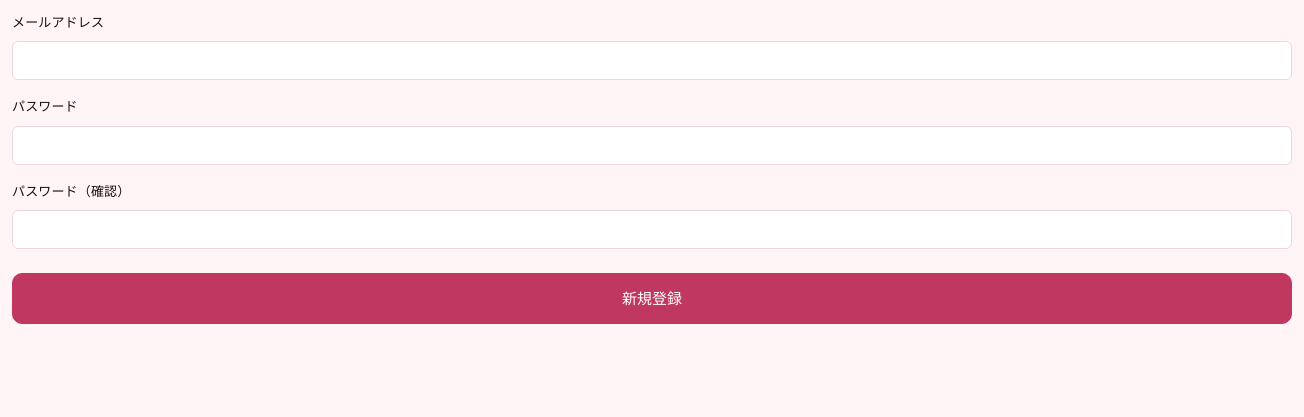
Test: RegisterForm › 409 エラー時に「このメールアドレスはすでに登録されています」と表示する
The width and height of the screenshot is (1304, 417).
Type "exists@example.com" into the field labelled "メールアドレス" at (652, 61), box [12,41,1292,80]
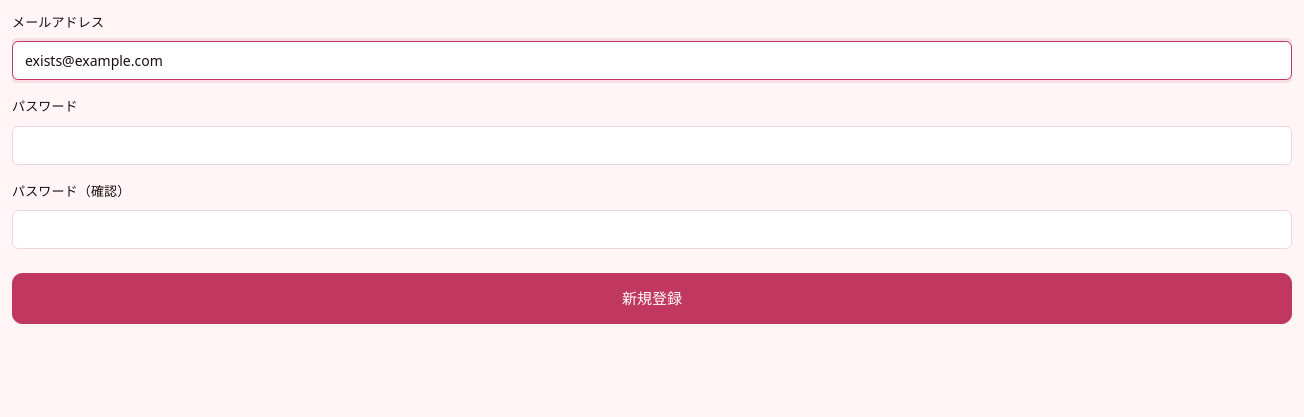
Type "password123" into the password field labelled "パスワード" at (652, 145), box [12,126,1292,165]
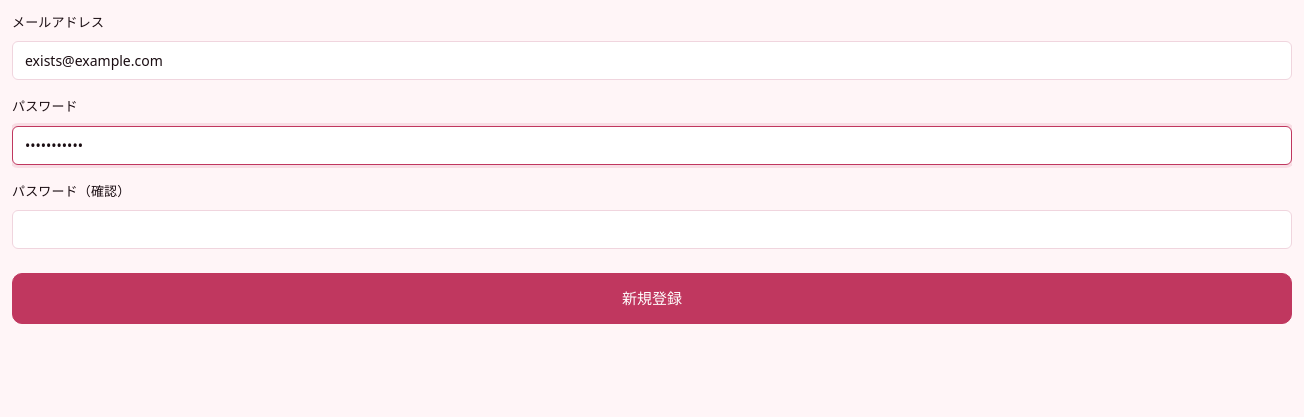
Type "password123" into the password field labelled "パスワード（確認）" at (652, 230), box [12,210,1292,249]
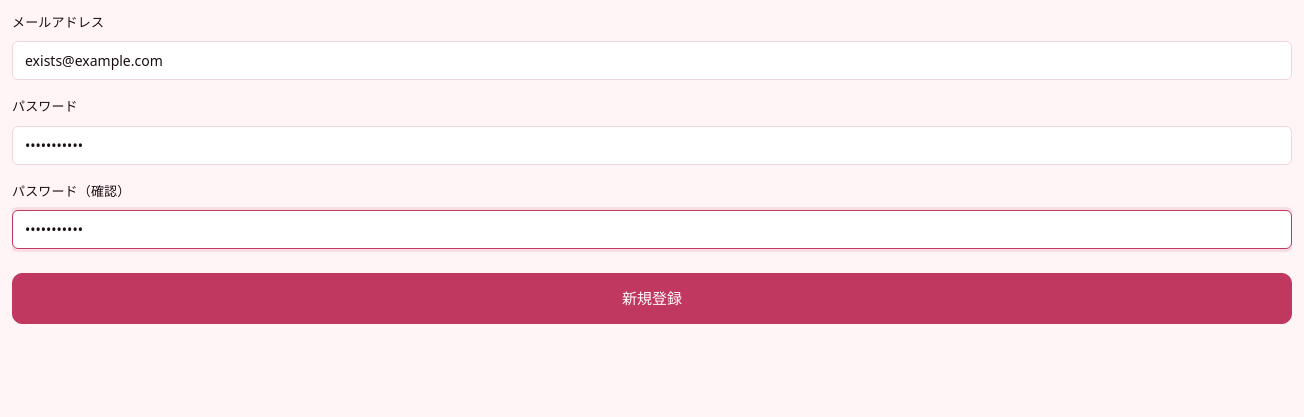
Click the button "新規登録" at (652, 299), box [12,273,1292,324]
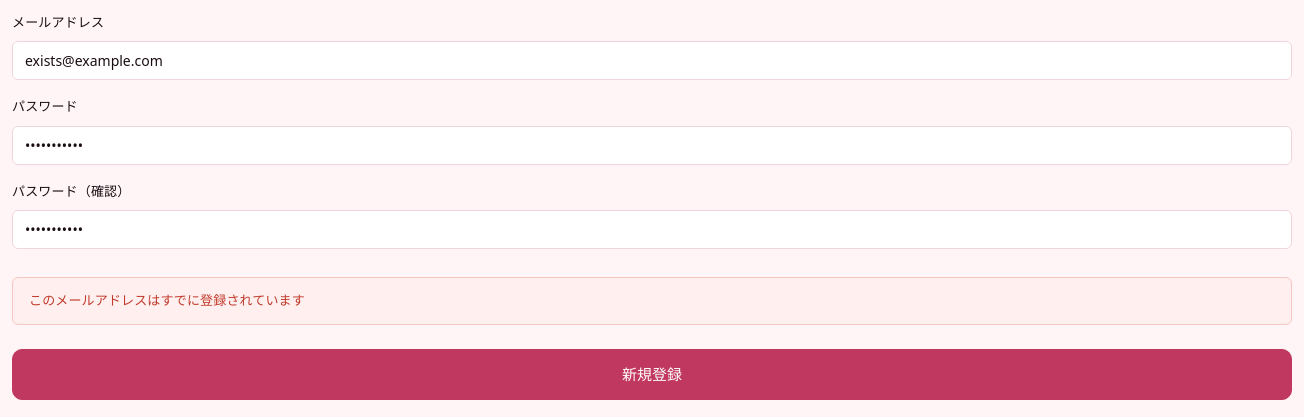
Now the text "このメールアドレスはすでに登録されています" is shown, box [12,277,1292,325]
